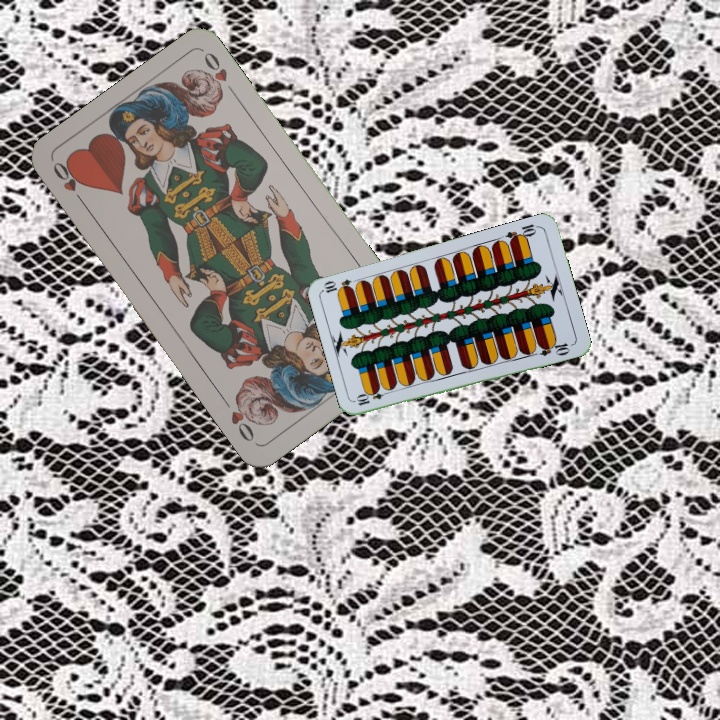E10: (502, 220, 542, 246), (352, 386, 393, 408)
HO: (48, 157, 89, 209)
